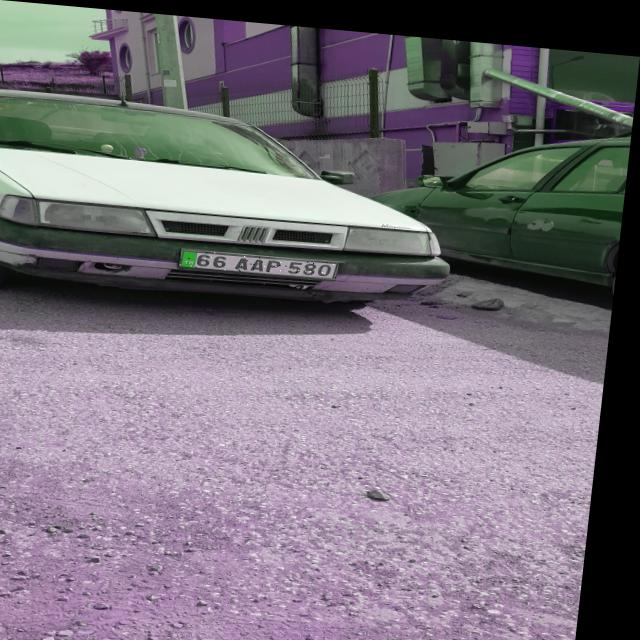plate: (185, 245, 344, 274)
